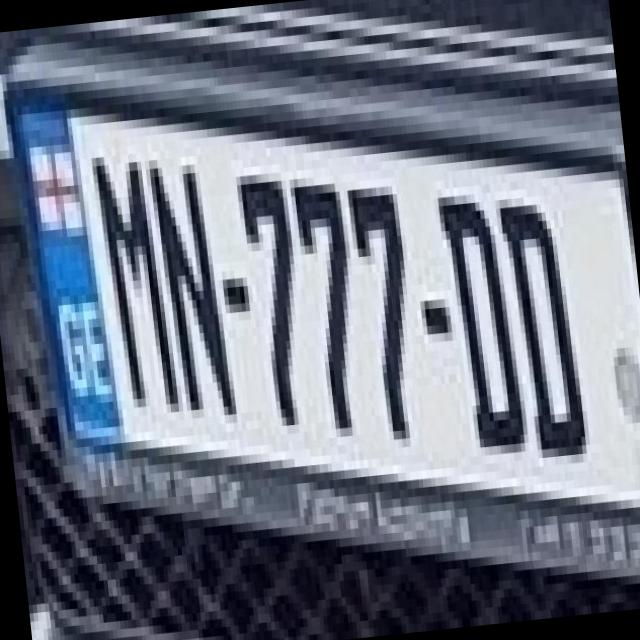7: (328, 159, 431, 443), (278, 148, 369, 440), (217, 146, 310, 421)
D: (484, 168, 590, 461), (422, 166, 526, 459)
M: (80, 127, 174, 410)
N: (134, 128, 240, 421)
